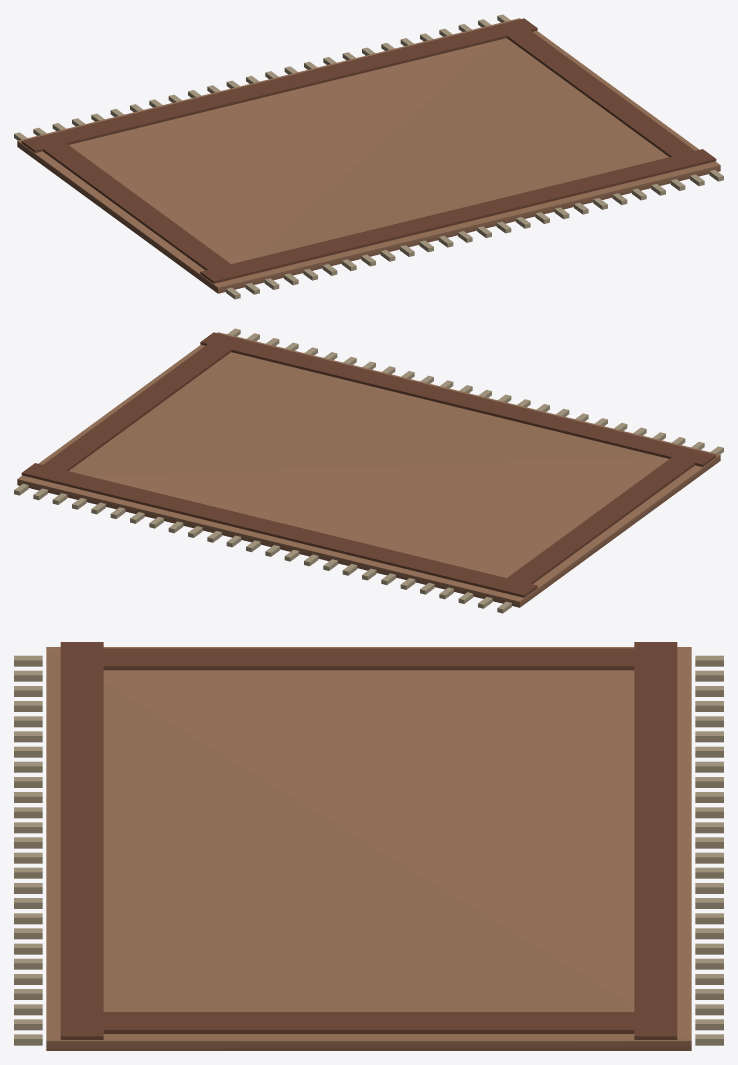
File: bedroom_area_rug.glb
3 renders of one model, top to bottom at view 1: azimuth 30°, elevation 25°; view 2: azimuth 150°, elevation 25°; view 3: azimuth 270°, elevation 25°, orthographic. The views are drawn at different scales.
Visible parts, largest first — view 1: bedroom_area_rug; view 2: bedroom_area_rug; view 3: bedroom_area_rug.
Boxes of the visible parts, left/top/right/bottom form: bedroom_area_rug: left=14, top=14, right=723, bottom=299; bedroom_area_rug: left=14, top=328, right=723, bottom=613; bedroom_area_rug: left=14, top=642, right=723, bottom=1050.
Bounding box in the file's own units: 2.6 × 0.0451 × 1.98.
